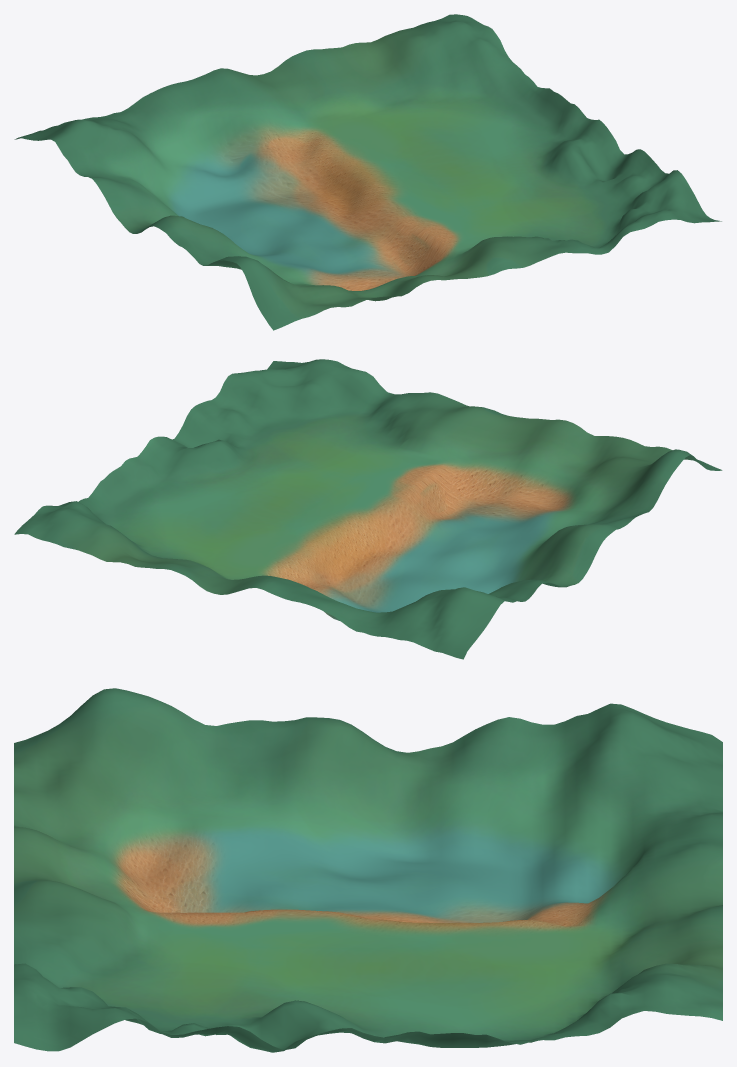
The model's file is SM_Env_Terrain.fbx.
3 views of the same model, one above another, from view 1: azimuth 30°, elevation 25°; view 2: azimuth 150°, elevation 25°; view 3: azimuth 270°, elevation 25° (orthographic). The views are drawn at different scales.
Visible parts, largest first — view 1: SM_Env_Terrain; view 2: SM_Env_Terrain; view 3: SM_Env_Terrain.
Part boxes in pixels (x1,y1,x2,y2): SM_Env_Terrain: (14,14,721,330); SM_Env_Terrain: (14,359,722,659); SM_Env_Terrain: (14,688,722,1052).
Bounding box in the file's own units: 29537 × 5453 × 29532.
